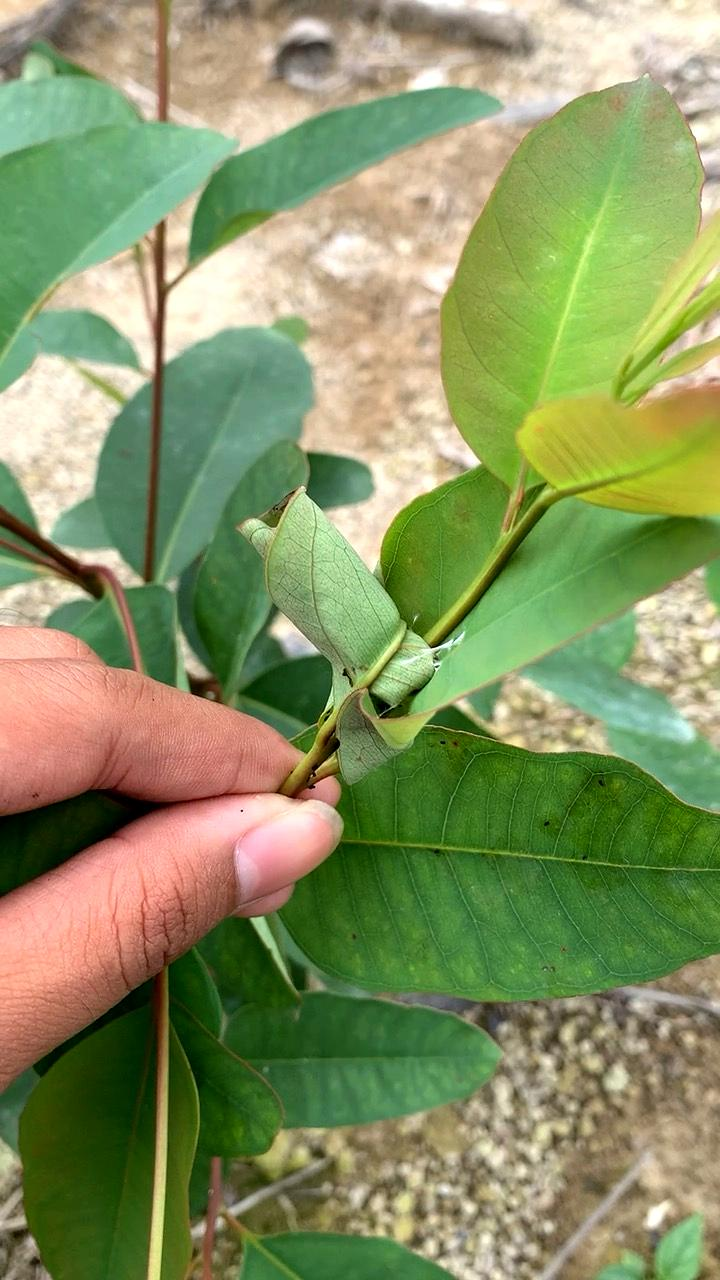Leaf Roller - Leaf: (226, 468, 459, 780)
